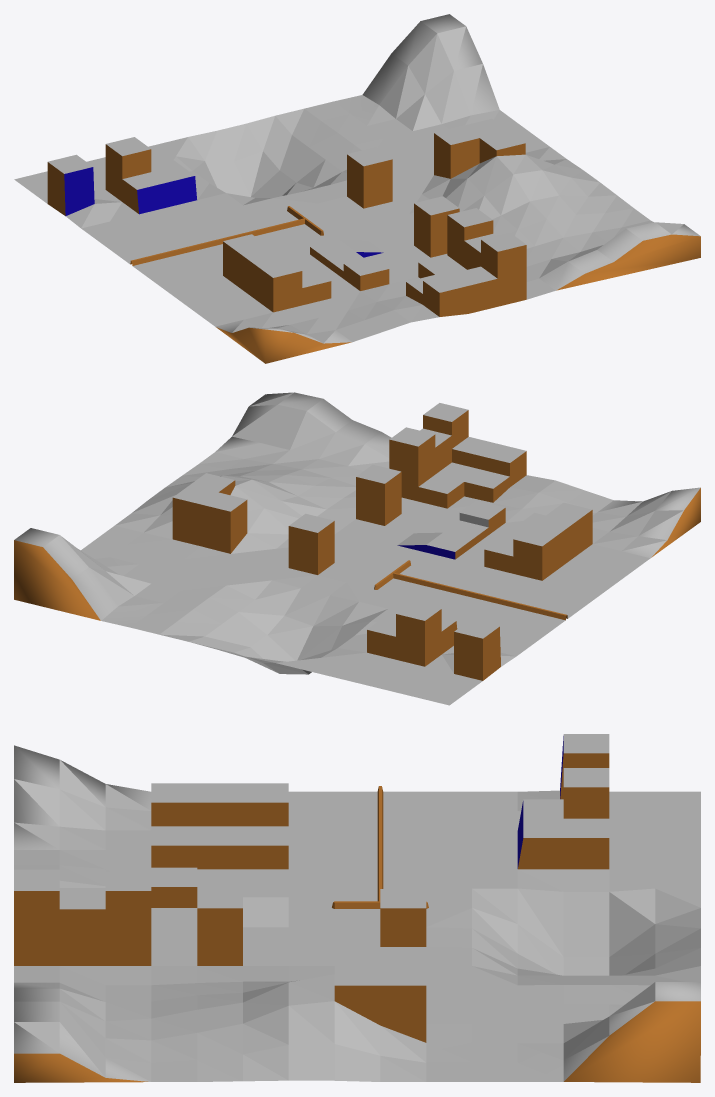
The model's file is demoZone.FBX.
3 views of the same model, one above another, from view 1: azimuth 30°, elevation 25°; view 2: azimuth 150°, elevation 25°; view 3: azimuth 270°, elevation 25° (orthographic). The views are drawn at different scales.
Parts seen in each view (by area): view 1: TestGround; view 2: TestGround; view 3: TestGround.
Boxes of the visible parts, box(x1,y1,x2,y2) form: TestGround: box(14, 14, 700, 363); TestGround: box(14, 392, 700, 705); TestGround: box(14, 734, 700, 1082).
Size of the model in its own units: 100 by 22.33 by 100.
